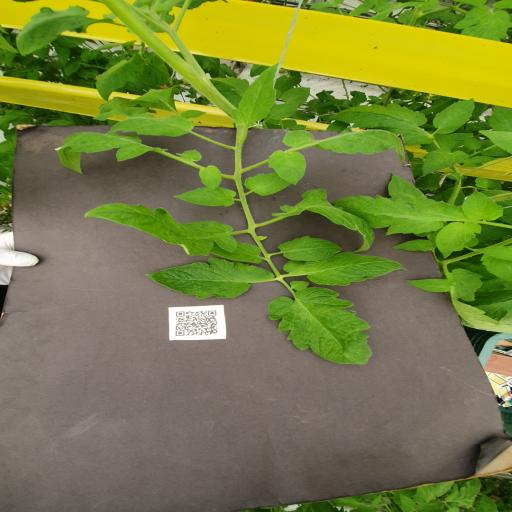Healthy: (82, 202, 236, 258), (266, 286, 374, 365), (272, 188, 376, 253), (143, 256, 274, 300), (332, 193, 464, 236), (330, 103, 434, 145), (54, 132, 155, 174), (284, 252, 408, 286), (14, 5, 96, 56), (281, 129, 406, 161), (230, 62, 277, 126), (96, 52, 147, 102), (109, 114, 195, 138), (276, 235, 343, 263), (435, 222, 483, 259), (433, 97, 477, 136), (173, 184, 239, 208), (462, 187, 505, 221), (422, 147, 470, 176), (268, 150, 306, 186), (244, 171, 292, 197), (404, 277, 454, 294), (198, 164, 223, 192), (281, 86, 311, 107), (268, 102, 300, 120), (394, 238, 434, 252)
